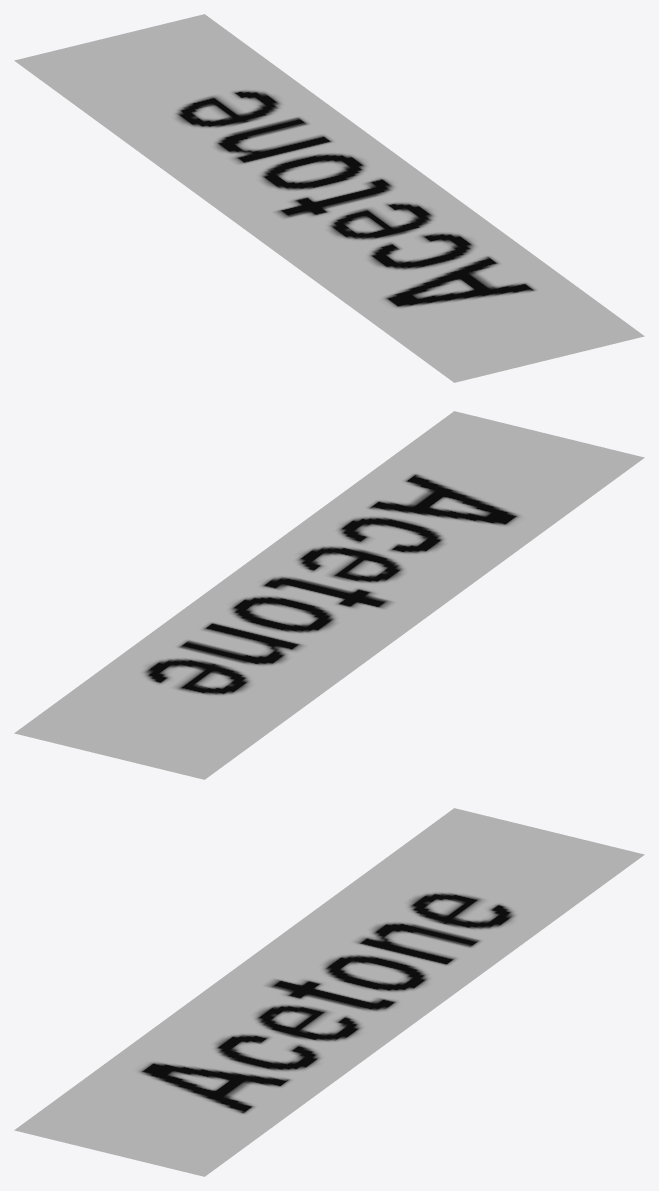
The model's file is label.fbx.
The picture shows the model from 3 angles, top to bottom: view 1: azimuth 30°, elevation 25°; view 2: azimuth 150°, elevation 25°; view 3: azimuth 330°, elevation 25°; orthographic projection.
Visible parts, largest first — view 1: Plane; view 2: Plane; view 3: Plane.
Part boxes in pixels (box(x1,y1,x2,y2)): Plane: box(14, 14, 644, 382); Plane: box(14, 411, 644, 779); Plane: box(14, 808, 644, 1176).
Size of the model in its own units: 50 by 1.22e-14 by 200.
